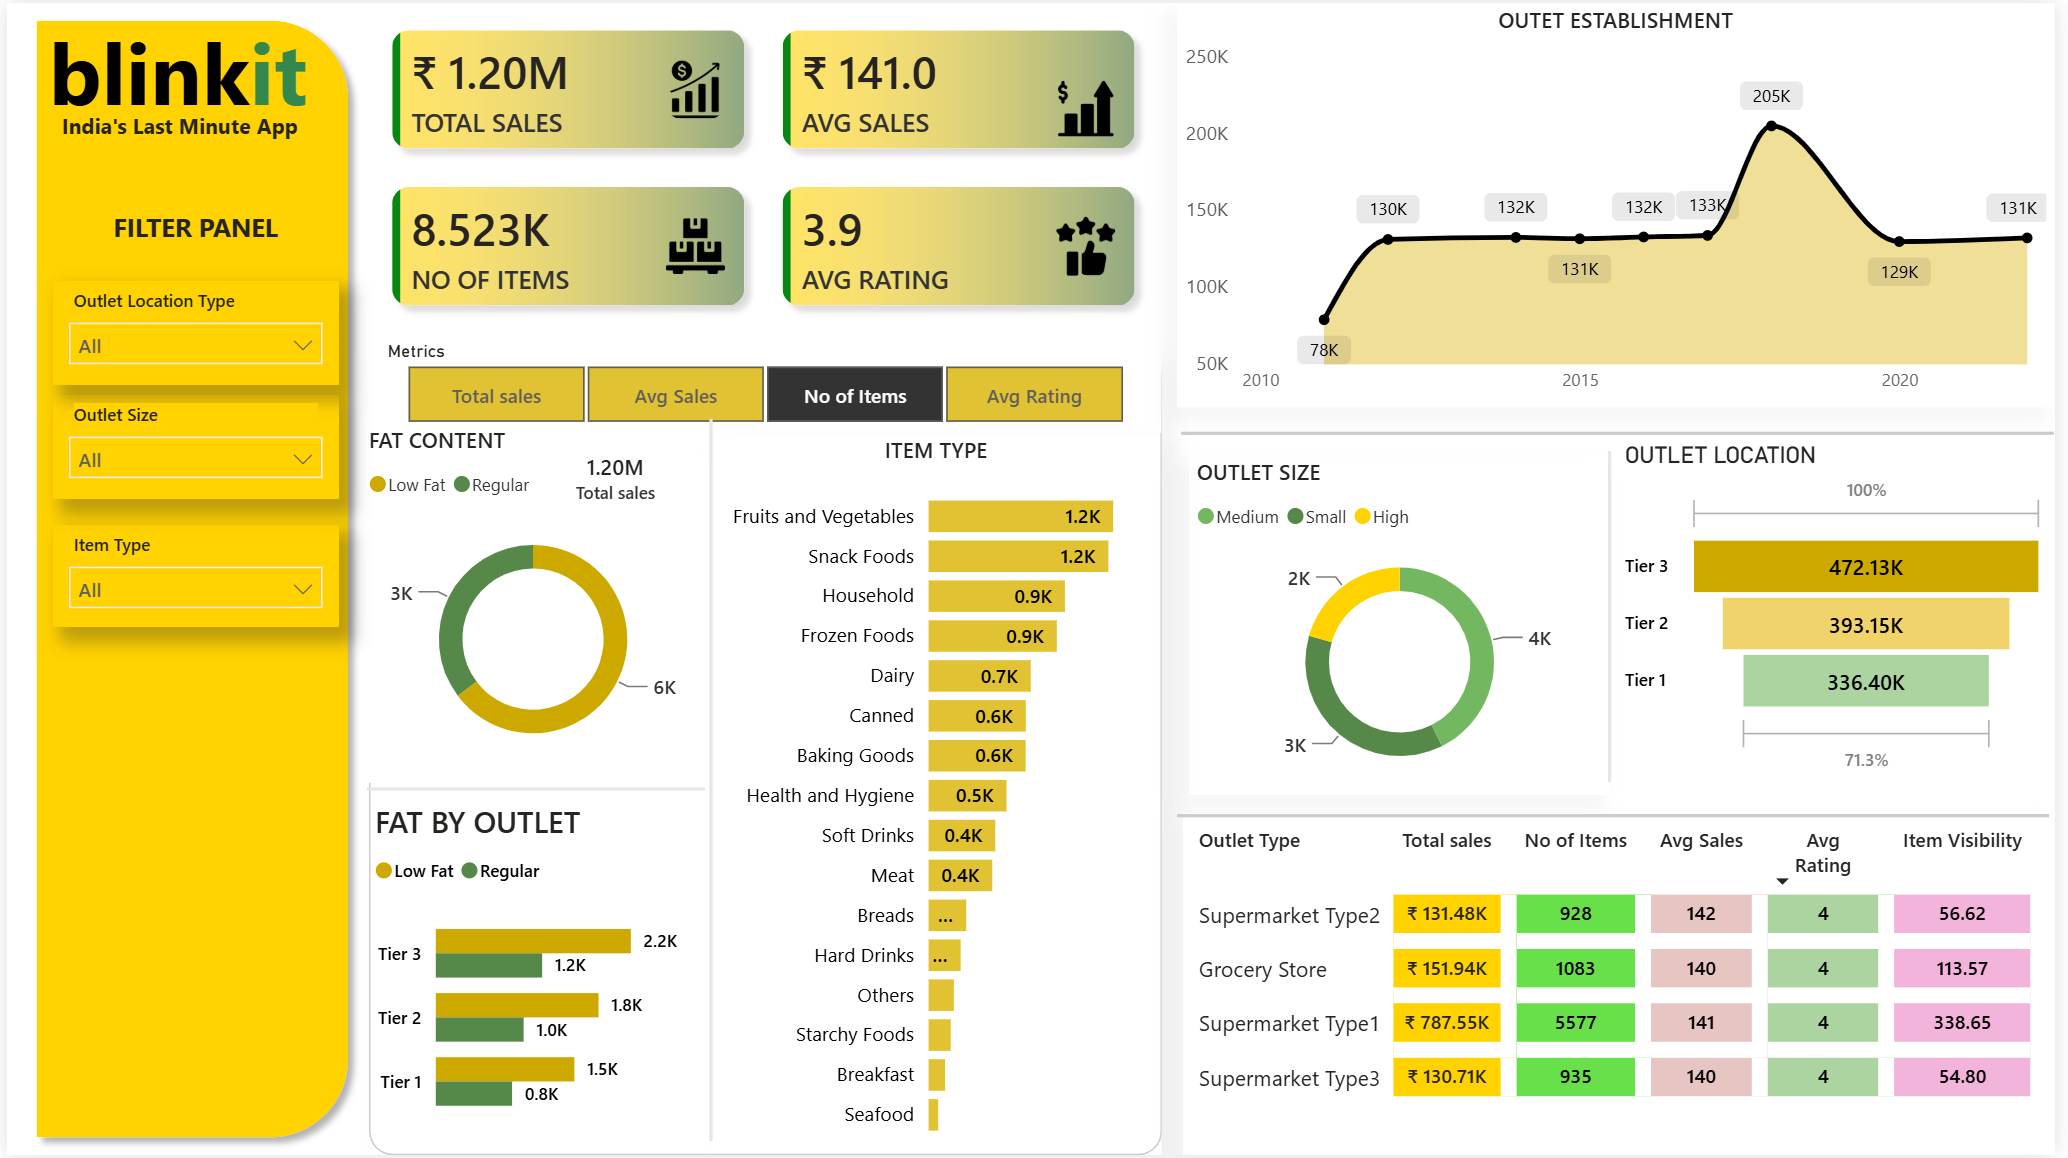

What the dashboard file says about the page in this screenshot:
{"tool":"powerbi","page":{"name":"Page 1","canvas":[1280,720],"ordinal":0},"visuals":[{"type":"shape","title":"blinkit","box":[8.9,0,216.7,720],"z":0},{"type":"textbox","box":[280,650,233.8,71.2],"z":1000},{"type":"textbox","box":[7.5,1.2,198.8,90],"z":2000},{"type":"textbox","box":[27.5,62.5,161.2,28.8],"z":3000},{"type":"cardVisual","fields":{"Data":["BlinkIT Grocery Data.Total sales","BlinkIT Grocery Data.Avg Sales","BlinkIT Grocery Data.No of Items","BlinkIT Grocery Data.Avg Rating"]},"box":[223.3,0,498.3,206.7],"z":4000},{"type":"shape","box":[225.7,218.6,495.7,501.4],"z":5000},{"type":"donutChart","title":"FAT CONTENT","fields":{"Y":["BlinkIT Grocery Data.Total sales"],"Category":["BlinkIT Grocery Data.Item Fat Content"]},"box":[221.7,263.3,215,223.3],"z":6000},{"type":"slicer","fields":{"Values":["Metrics.Metrics"]},"box":[225,206.2,496.2,62.5],"z":7000},{"type":"cardVisual","fields":{"Data":["BlinkIT Grocery Data.Total sales"]},"box":[321.7,263.3,118.3,65],"z":8000},{"type":"clusteredBarChart","title":"FAT BY OUTLET","fields":{"Y":["BlinkIT Grocery Data.Total sales"],"Category":["BlinkIT Grocery Data.Outlet Location Type"],"Series":["BlinkIT Grocery Data.Item Fat Content"]},"box":[225,498.3,216.7,213.3],"z":9000},{"type":"shape","box":[225,475,211.2,32.5],"z":10000},{"type":"shape","box":[427.5,260,25,451.2],"z":11000},{"type":"barChart","title":"ITEM TYPE","fields":{"Y":["BlinkIT Grocery Data.Total sales"],"Category":["BlinkIT Grocery Data.Item Type"]},"box":[440,270,281.4,450],"z":12000},{"type":"lineChart","title":"OUTET ESTABLISHMENT","fields":{"Y":["BlinkIT Grocery Data.Total sales"],"Category":["BlinkIT Grocery Data.Outlet Establishment Year"]},"box":[731.4,2.3,548.3,251.7],"z":13000},{"type":"shape","box":[734.3,262.9,545.7,12.9],"z":14000},{"type":"donutChart","title":"OUTLET SIZE","fields":{"Y":["BlinkIT Grocery Data.Total sales"],"Category":["BlinkIT Grocery Data.Outlet Size"]},"box":[738.3,283.3,263.3,211.7],"z":15000},{"type":"shape","box":[994.3,280,15.7,207.1],"z":16000},{"type":"funnel","title":"OUTLET LOCATION","fields":{"Y":["Sum(BlinkIT Grocery Data.Sales)"],"Category":["BlinkIT Grocery Data.Outlet Location Type"]},"box":[1006.7,273.3,273.3,211.7],"z":17000},{"type":"pivotTable","fields":{"Values":["BlinkIT Grocery Data.Total sales","BlinkIT Grocery Data.No of Items","BlinkIT Grocery Data.Avg Sales","BlinkIT Grocery Data.Avg Rating","Sum(BlinkIT Grocery Data.Item Visibility)"],"Rows":["BlinkIT Grocery Data.Outlet Type"]},"box":[735,506.7,545,213.3],"z":18000},{"type":"shape","box":[731.7,486.7,545,43.3],"z":19000},{"type":"slicer","fields":{"Values":["BlinkIT Grocery Data.Outlet Location Type"]},"box":[28.3,173.3,178.3,65],"z":20000},{"type":"slicer","fields":{"Values":["BlinkIT Grocery Data.Outlet Size"]},"box":[28.3,245,178.3,65],"z":21000},{"type":"slicer","fields":{"Values":["BlinkIT Grocery Data.Item Type"]},"box":[28.3,326.7,178.3,63.3],"z":22000},{"type":"shape","title":"FILTER PANEL","box":[28.3,128.3,178.3,30],"z":23000}]}

Visuals, with their boxes in screenshot pixels (x1, y1, x2, y2), scaled from the page's 1280x720 canvas onto the 2068x1158 screenshot:
"blinkit" shape: bbox(14, 0, 364, 1157)
textbox: bbox(452, 1045, 830, 1157)
textbox: bbox(12, 2, 333, 147)
textbox: bbox(44, 101, 305, 147)
cardVisual - BlinkIT Grocery Data.Total sales x BlinkIT Grocery Data.Avg Sales: bbox(361, 0, 1166, 332)
shape: bbox(365, 352, 1166, 1157)
"FAT CONTENT" donutChart: bbox(358, 423, 706, 783)
slicer - Metrics.Metrics: bbox(364, 332, 1165, 432)
cardVisual - BlinkIT Grocery Data.Total sales: bbox(520, 423, 711, 528)
"FAT BY OUTLET" clusteredBarChart: bbox(364, 801, 714, 1144)
shape: bbox(364, 764, 705, 816)
shape: bbox(691, 418, 731, 1144)
"ITEM TYPE" barChart: bbox(711, 434, 1166, 1157)
"OUTET ESTABLISHMENT" lineChart: bbox(1182, 4, 2067, 409)
shape: bbox(1186, 423, 2067, 444)
"OUTLET SIZE" donutChart: bbox(1193, 456, 1618, 796)
shape: bbox(1606, 450, 1632, 783)
"OUTLET LOCATION" funnel: bbox(1626, 440, 2067, 780)
pivotTable - BlinkIT Grocery Data.Total sales x BlinkIT Grocery Data.No of Items: bbox(1187, 815, 2067, 1157)
shape: bbox(1182, 783, 2063, 852)
slicer - BlinkIT Grocery Data.Outlet Location Type: bbox(46, 279, 334, 383)
slicer - BlinkIT Grocery Data.Outlet Size: bbox(46, 394, 334, 499)
slicer - BlinkIT Grocery Data.Item Type: bbox(46, 525, 334, 627)
"FILTER PANEL" shape: bbox(46, 206, 334, 255)
